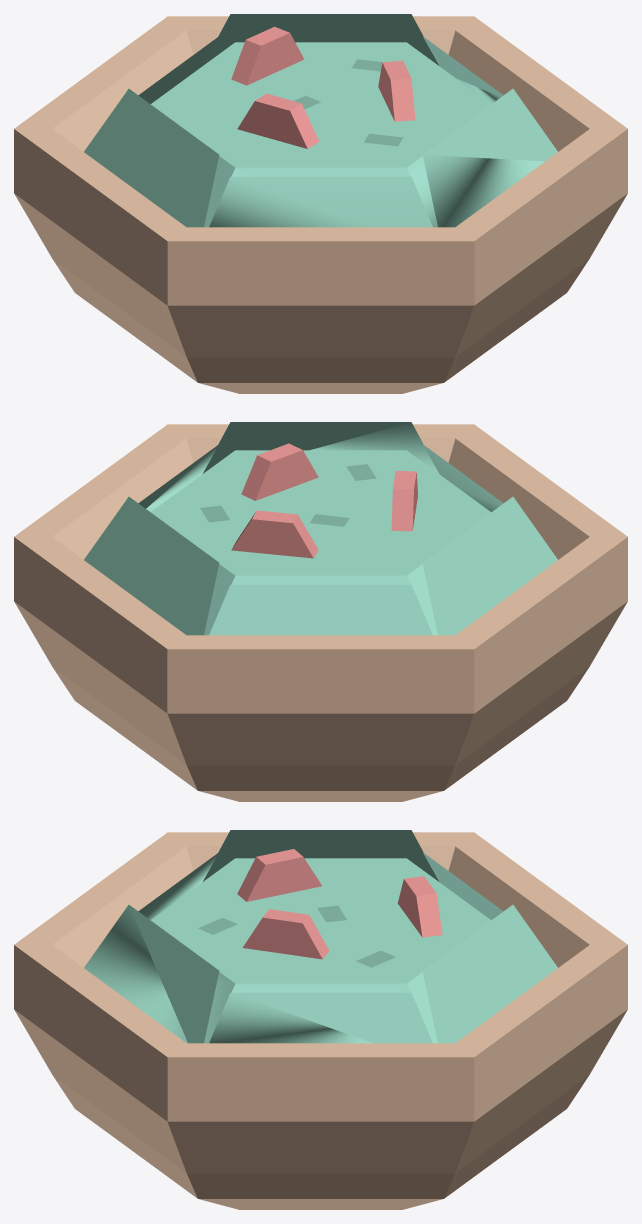
File: salad-separated.fbx
3 renders of one model, top to bottom at view 1: azimuth 30°, elevation 25°; view 2: azimuth 150°, elevation 25°; view 3: azimuth 270°, elevation 25°, orthographic.
Parts seen in each view (by area): view 1: salad.001, salad; view 2: salad.001, salad; view 3: salad.001, salad.
Part boxes in pixels (x1=…): salad.001: x1=14, y1=16, x2=627, y2=393; salad: x1=84, y1=14, x2=557, y2=227; salad.001: x1=14, y1=424, x2=627, y2=801; salad: x1=84, y1=422, x2=557, y2=635; salad.001: x1=14, y1=832, x2=627, y2=1209; salad: x1=84, y1=830, x2=557, y2=1043.
Bounding box in the file's own units: 50.22 × 27.34 × 57.98.
